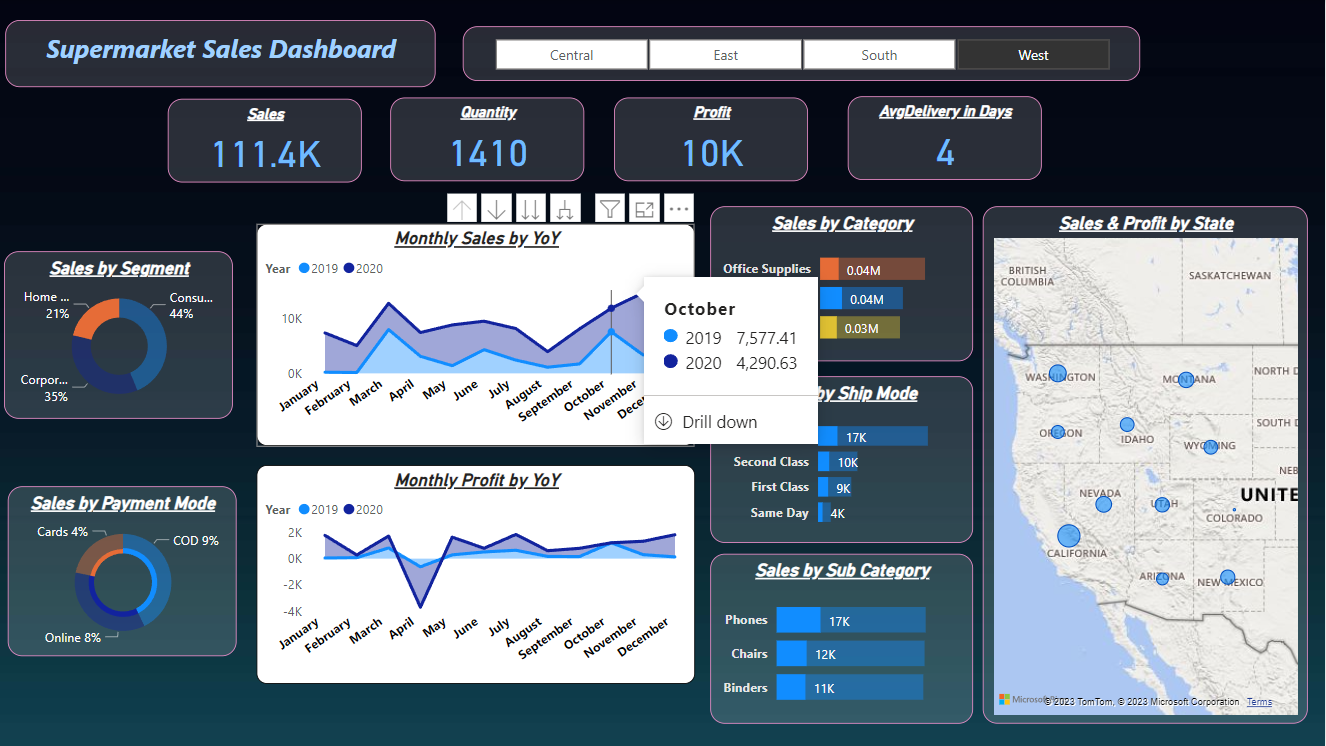

The page's visual inventory and layout, read from the dashboard file:
{"tool":"powerbi","page":{"name":"Page 1","canvas":[1280,720],"ordinal":0},"visuals":[{"type":"clusteredBarChart","title":"Sales by Category","fields":{"Category":["SuperStore_Sales_Dataset.Category"],"Y":["Sum(SuperStore_Sales_Dataset.Sales)"]},"box":[686.2,199,253.3,149.5],"z":0},{"type":"clusteredBarChart","title":"Sales by Sub Category","fields":{"Category":["SuperStore_Sales_Dataset.Sub-Category"],"Y":["Sum(SuperStore_Sales_Dataset.Sales)"]},"box":[686.2,534.3,253.3,164],"z":1000},{"type":"stackedAreaChart","title":"Monthly Sales by YoY","fields":{"Category":["SuperStore_Sales_Dataset.Order Date.Variation.Date Hierarchy.Month","SuperStore_Sales_Dataset.Order Date.Variation.Date Hierarchy.Day"],"Y":["Sum(SuperStore_Sales_Dataset.Sales)"],"Series":["SuperStore_Sales_Dataset.Order Date.Variation.Date Hierarchy.Year"]},"box":[248.4,215.9,423.3,214.7],"z":2000},{"type":"stackedAreaChart","title":"Monthly Profit by YoY","fields":{"Category":["SuperStore_Sales_Dataset.Order Date.Variation.Date Hierarchy.Month","SuperStore_Sales_Dataset.Order Date.Variation.Date Hierarchy.Day"],"Series":["SuperStore_Sales_Dataset.Order Date.Variation.Date Hierarchy.Year"],"Y":["Sum(SuperStore_Sales_Dataset.Profit)"]},"box":[248.4,448.6,423.3,211.1],"z":3000},{"type":"card","title":"Sales","fields":{"Values":["Sum(SuperStore_Sales_Dataset.Sales)"]},"box":[162.8,95.3,186.9,80.8],"z":4000},{"type":"donutChart","title":"Sales by Segment","fields":{"Category":["SuperStore_Sales_Dataset.Segment"],"Y":["Sum(SuperStore_Sales_Dataset.Sales)"]},"box":[4.8,242.4,220.7,161.6],"z":5000},{"type":"slicer","title":"Sales by Payment Mode","fields":{"Values":["SuperStore_Sales_Dataset.Region"]},"box":[447.4,25.3,653.7,53.1],"z":6000},{"type":"donutChart","title":"Sales by Payment Mode","fields":{"Category":["SuperStore_Sales_Dataset.Payment Mode"],"Y":["Sum(SuperStore_Sales_Dataset.Sales)"]},"box":[8.4,469.1,220.7,164],"z":7000},{"type":"textbox","box":[6,19.3,414.9,65.1],"z":8000},{"type":"clusteredBarChart","title":"Sales by Ship Mode","fields":{"Y":["Sum(SuperStore_Sales_Dataset.Sales)"],"Category":["SuperStore_Sales_Dataset.Ship Mode"]},"box":[686.2,363,253.3,160.4],"z":9000},{"type":"card","title":"Profit","fields":{"Values":["Sum(SuperStore_Sales_Dataset.Profit)"]},"box":[593.4,94.1,186.9,80.8],"z":10000},{"type":"map","title":"Sales & Profit by State","fields":{"Category":["SuperStore_Sales_Dataset.State"],"Size":["Sum(SuperStore_Sales_Dataset.Profit)"]},"box":[949.1,199,313.6,499.3],"z":11000},{"type":"card","title":"Quantity","fields":{"Values":["Sum(SuperStore_Sales_Dataset.Quantity)"]},"box":[377.5,94.1,186.9,80.8],"z":12000},{"type":"card","title":"AvgDelivery in Days","fields":{"Values":["Avg(SuperStore_Sales_Dataset.AvgDelivery)"]},"box":[818.9,92.9,186.9,80.8],"z":13000}]}

Visuals, with their boxes in screenshot pixels (x1, y1, x2, y2), scaled from the page's 1280x720 canvas onto the 1326x746 screenshot:
"Sales by Category" clusteredBarChart: bbox=[711, 206, 973, 361]
"Sales by Sub Category" clusteredBarChart: bbox=[711, 554, 973, 724]
"Monthly Sales by YoY" stackedAreaChart: bbox=[257, 224, 696, 446]
"Monthly Profit by YoY" stackedAreaChart: bbox=[257, 465, 696, 684]
"Sales" card: bbox=[169, 99, 362, 182]
"Sales by Segment" donutChart: bbox=[5, 251, 234, 419]
"Sales by Payment Mode" slicer: bbox=[463, 26, 1141, 81]
"Sales by Payment Mode" donutChart: bbox=[9, 486, 237, 656]
textbox: bbox=[6, 20, 436, 87]
"Sales by Ship Mode" clusteredBarChart: bbox=[711, 376, 973, 542]
"Profit" card: bbox=[615, 97, 808, 181]
"Sales & Profit by State" map: bbox=[983, 206, 1308, 724]
"Quantity" card: bbox=[391, 97, 585, 181]
"AvgDelivery in Days" card: bbox=[848, 96, 1042, 180]
